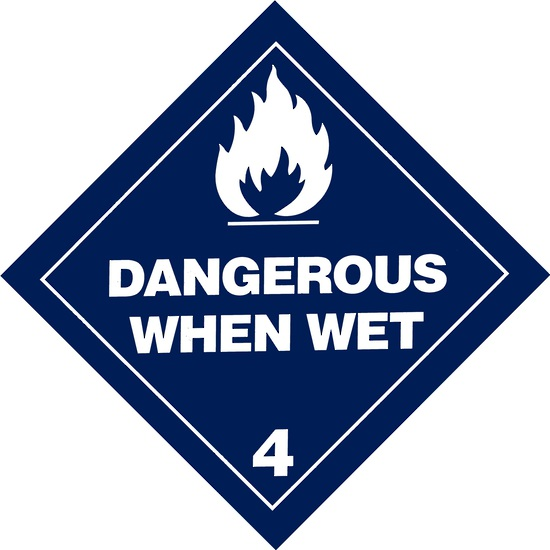DangerousWhenWet: (38, 21, 526, 514)
